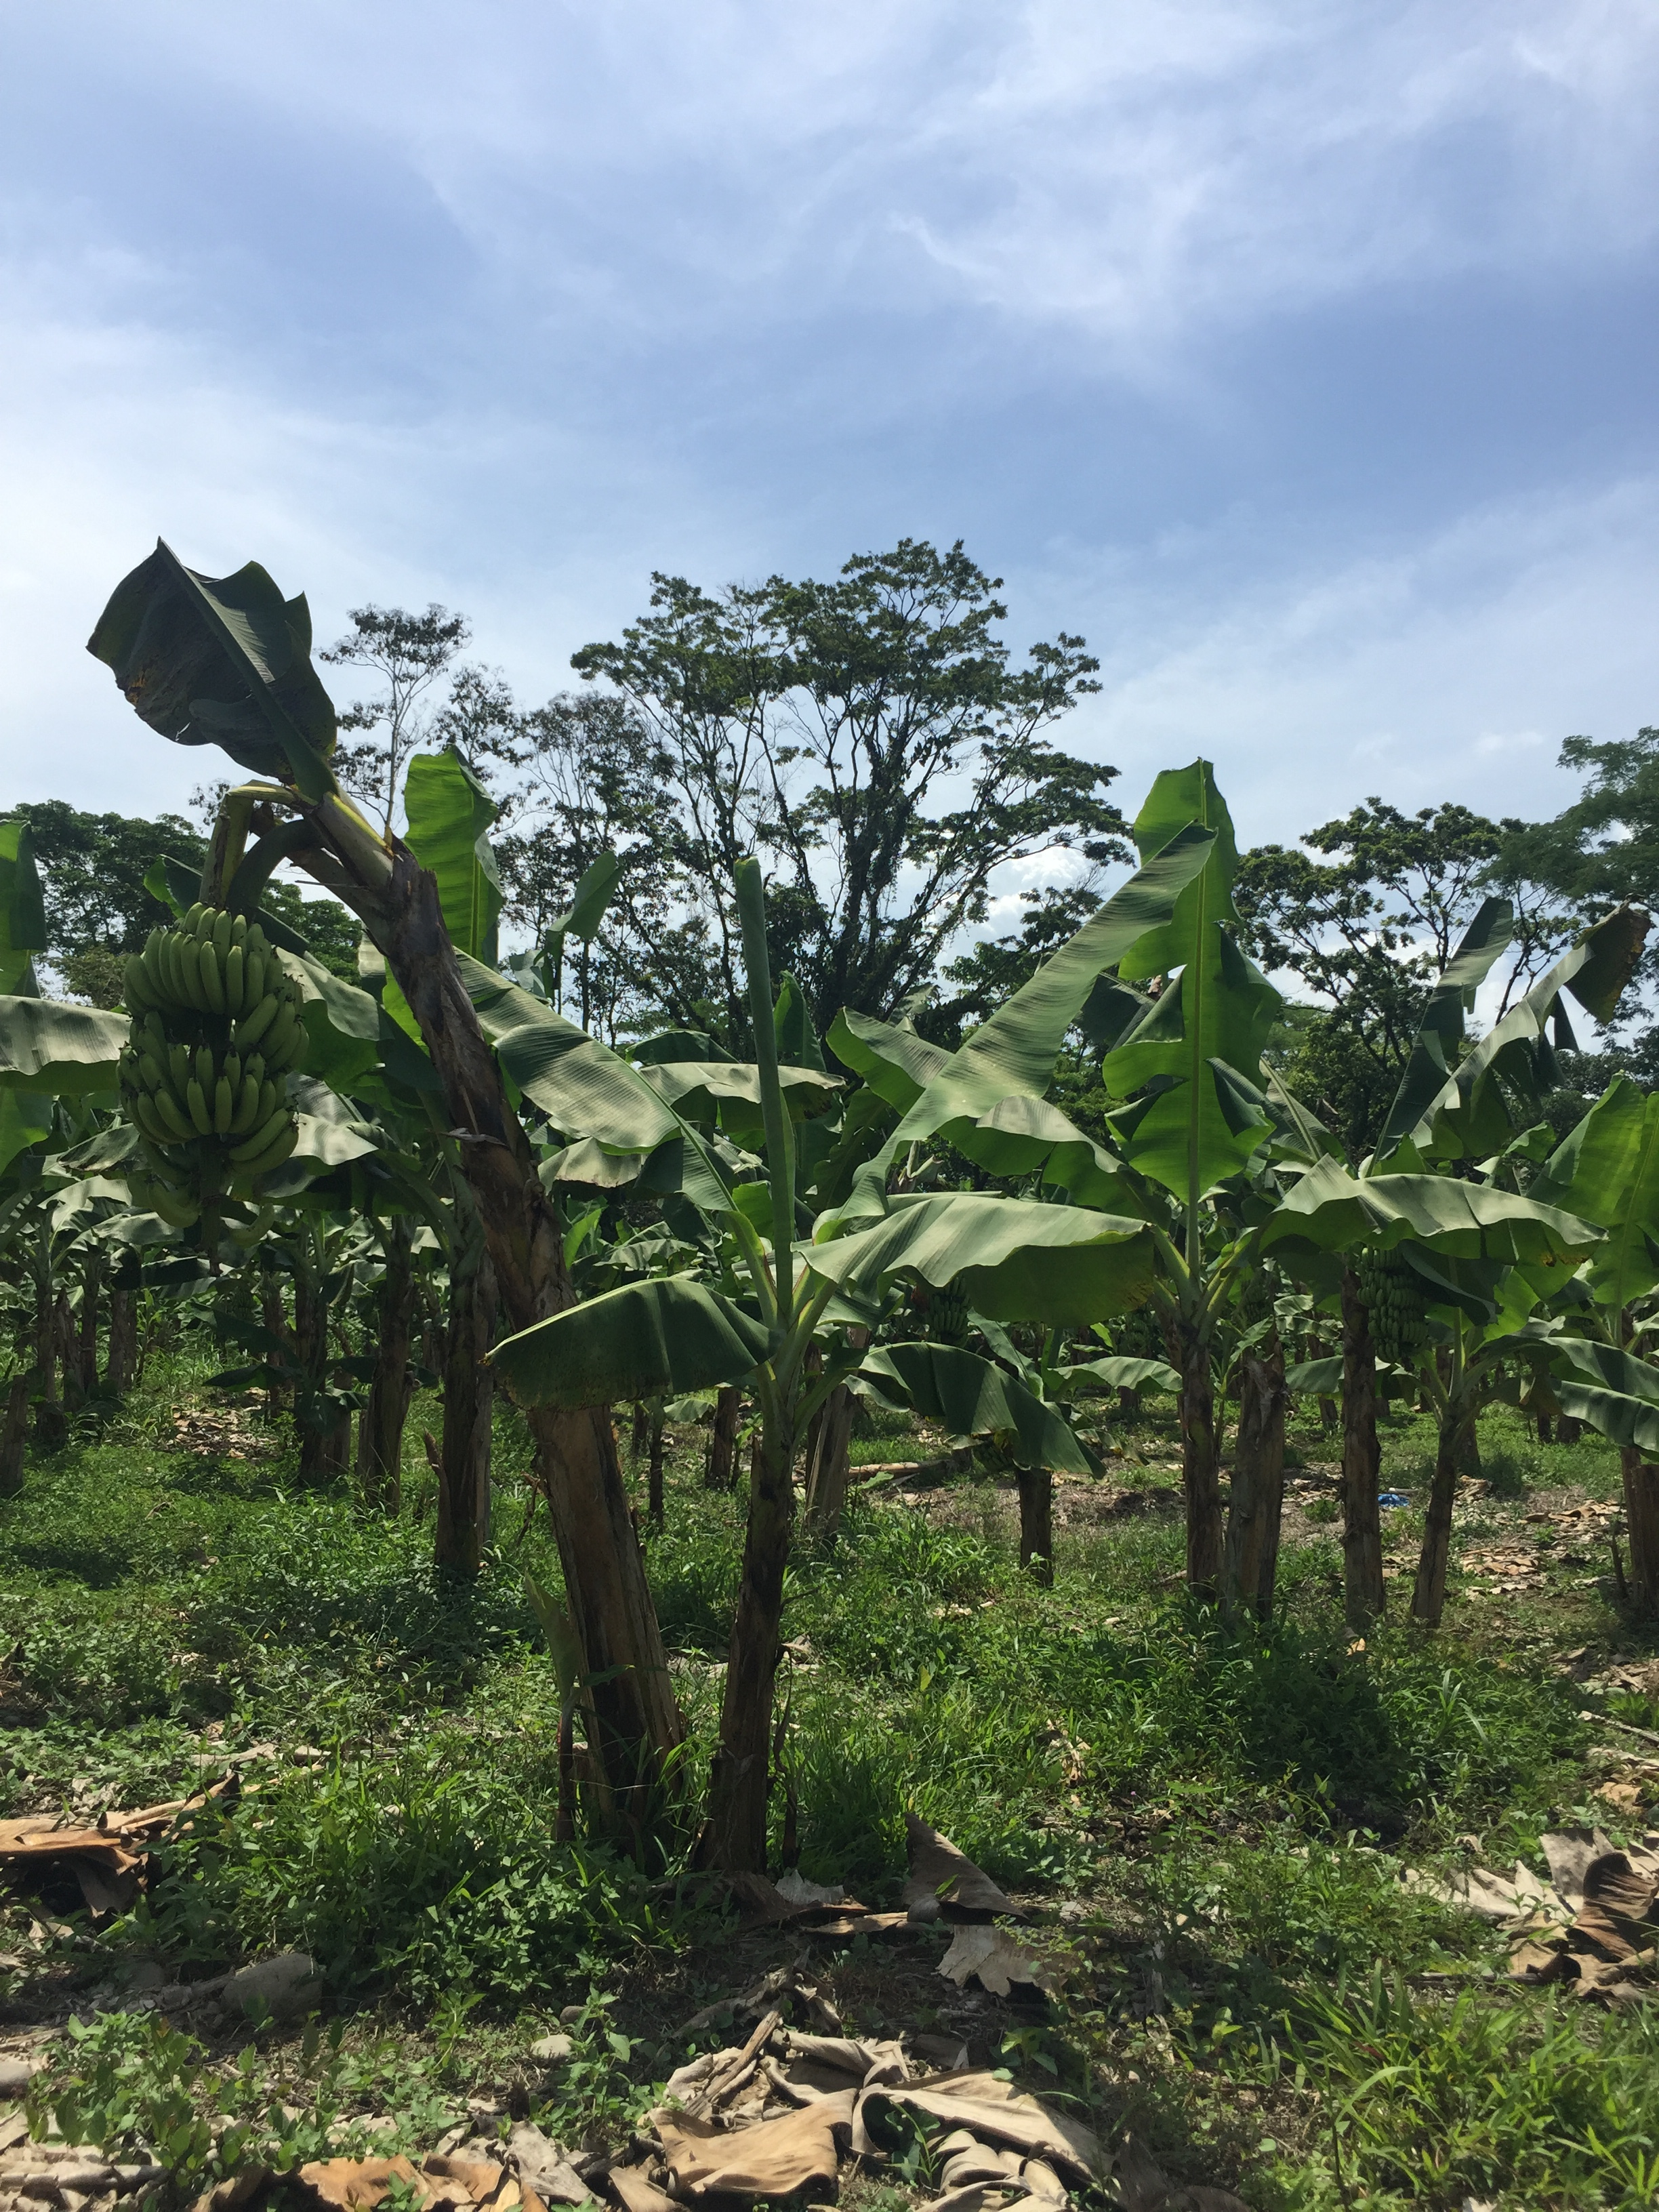candleleafs: (732, 855, 796, 1336)
